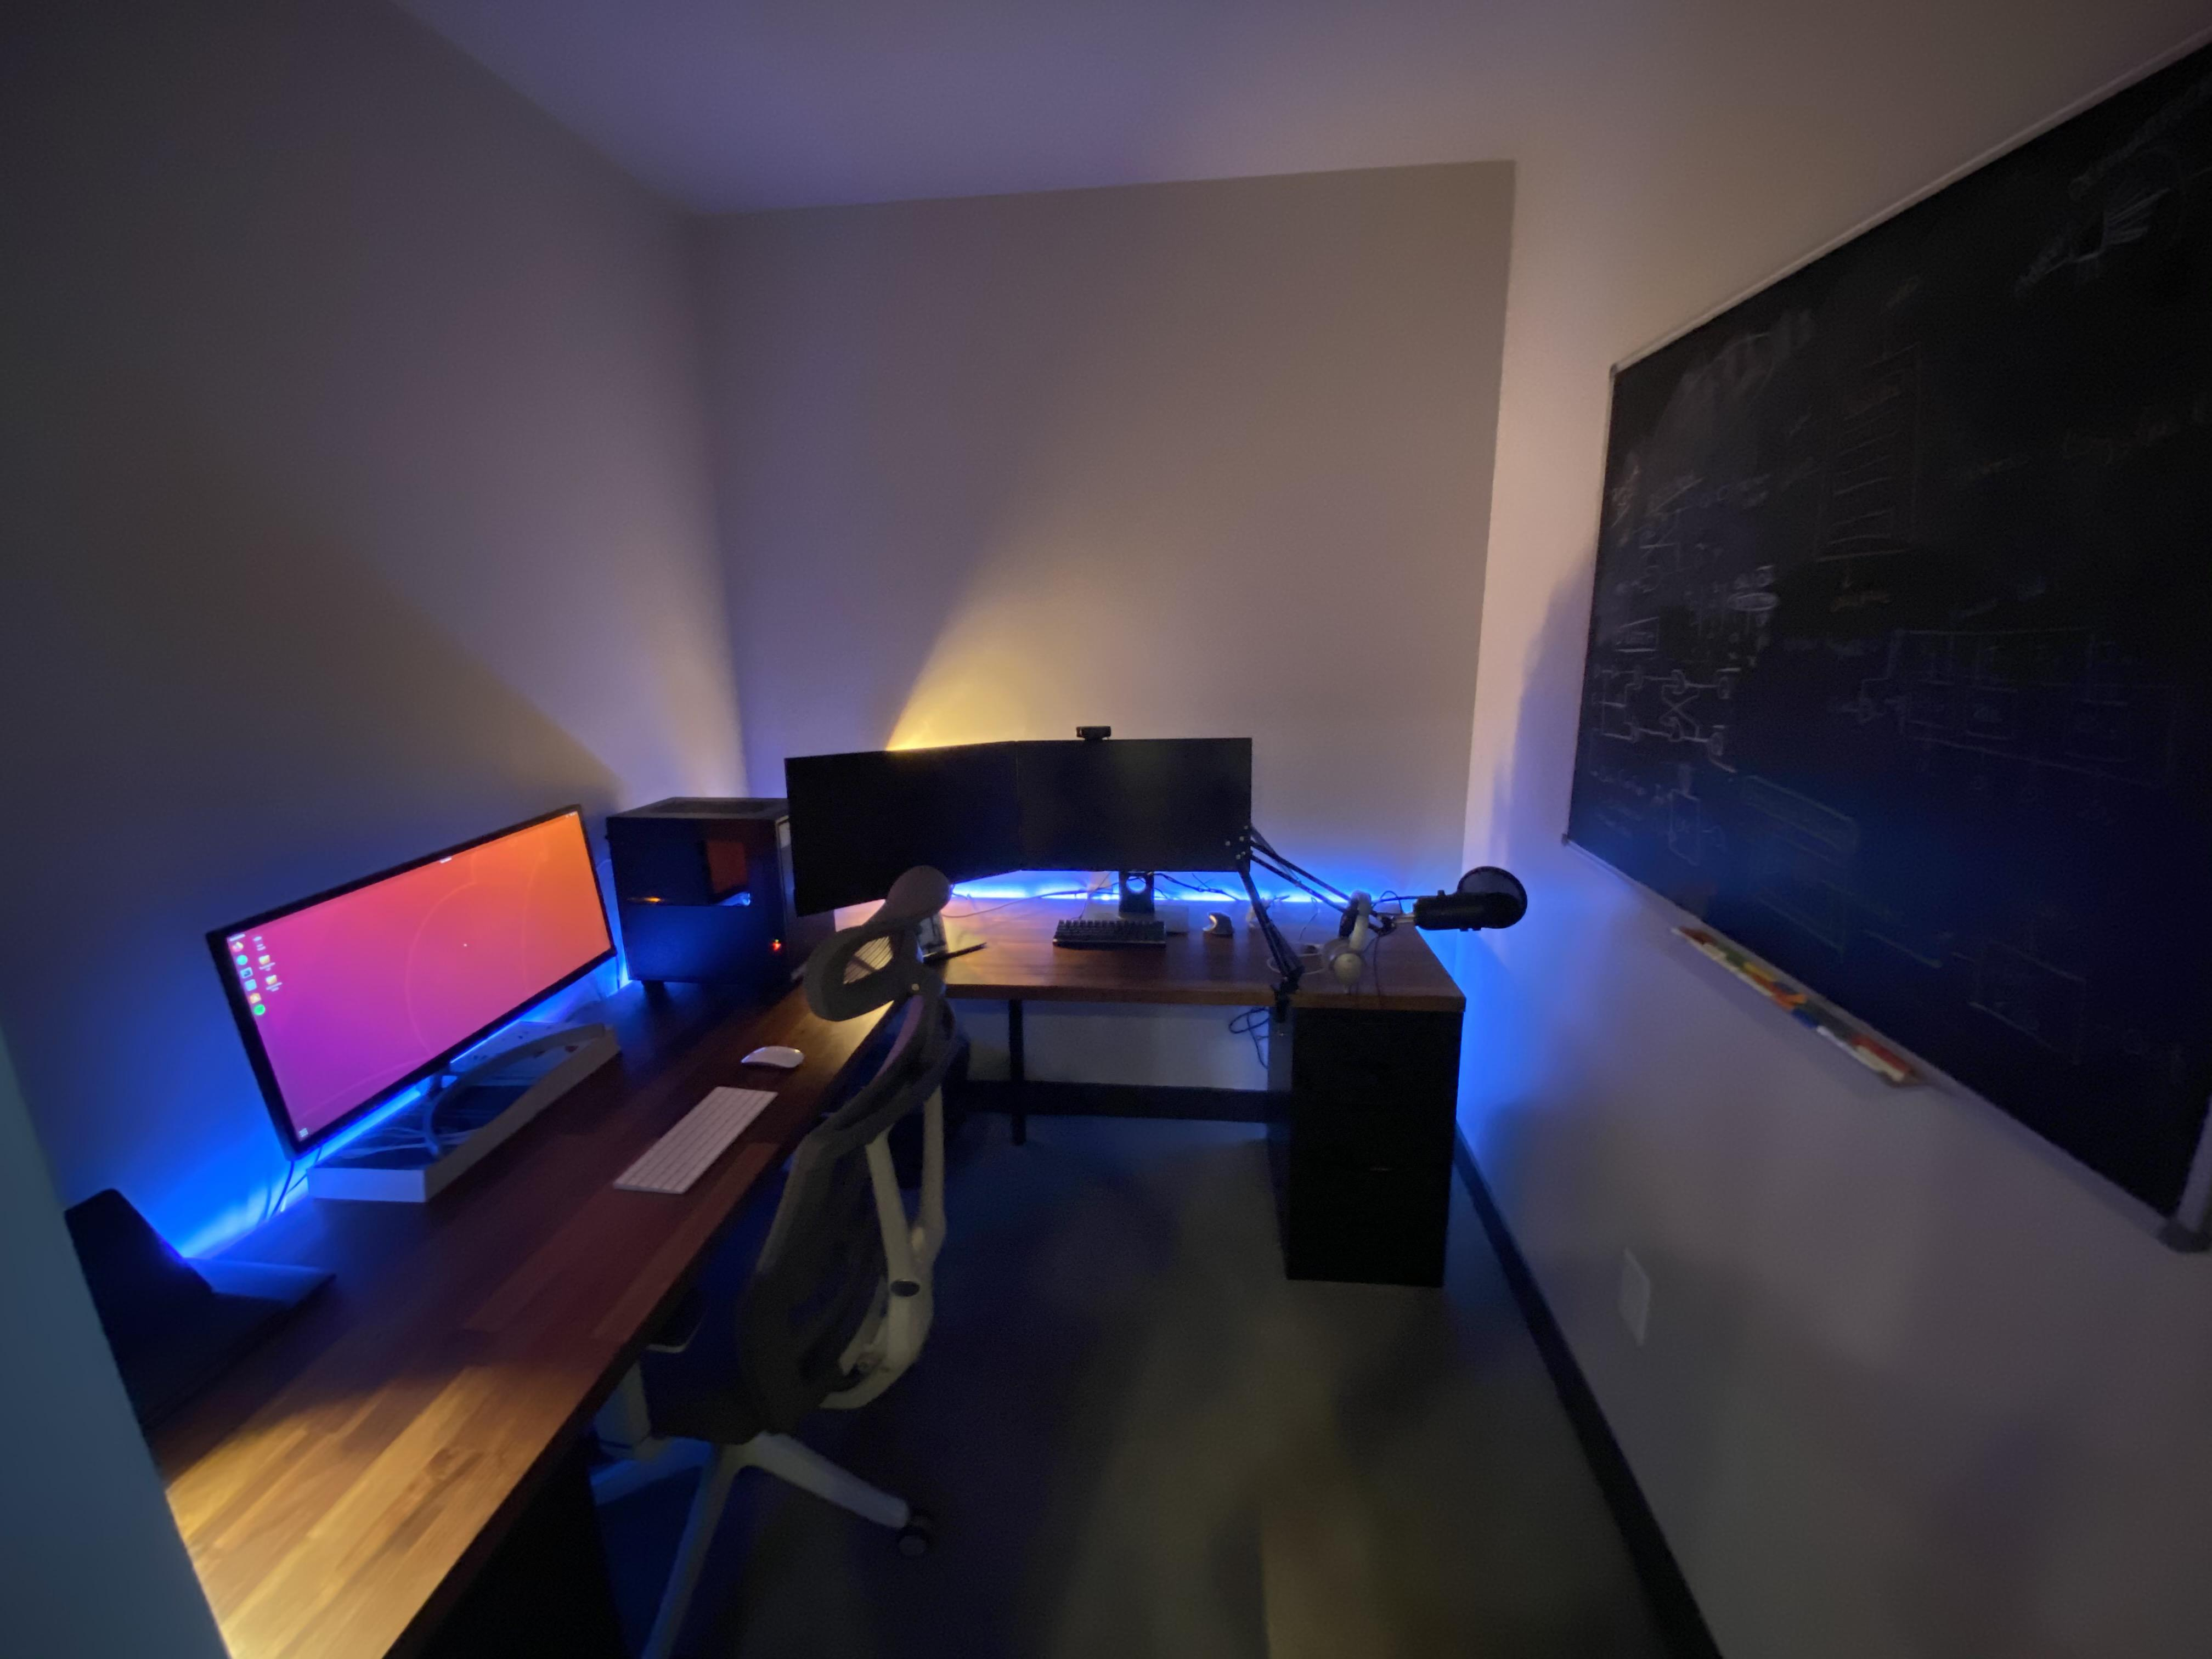Chair (Generic): (543, 845, 981, 1656)
Desk (Generic): (3, 897, 1465, 1659)
Desktop (Linux): (608, 796, 834, 988)
External Microphone (with Boom Arm): (1233, 845, 1533, 1004)
Headphones: (1318, 887, 1374, 992)
Keyboard (Generic): (606, 1080, 780, 1194), (1049, 920, 1169, 950)
Monitor (Landscape): (199, 807, 618, 1166), (784, 742, 1017, 915), (1019, 735, 1247, 868)
Mouse (Ergonomic): (1197, 911, 1235, 939)
Mouse (Generic): (737, 1044, 806, 1073)
Storage Drawer: (1258, 993, 1456, 1295)
